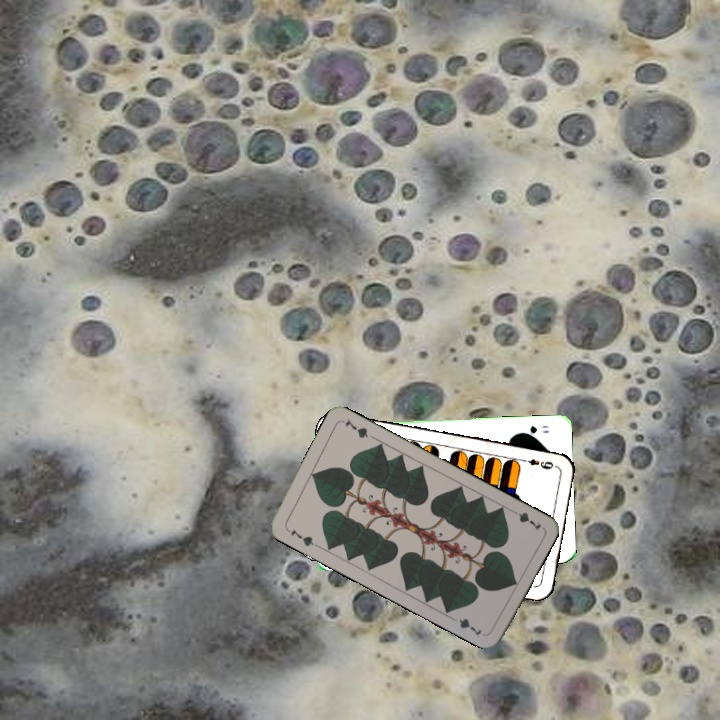E9: (517, 455, 556, 472)
G7: (506, 505, 544, 533), (287, 525, 320, 549)
GO: (515, 421, 552, 438)
